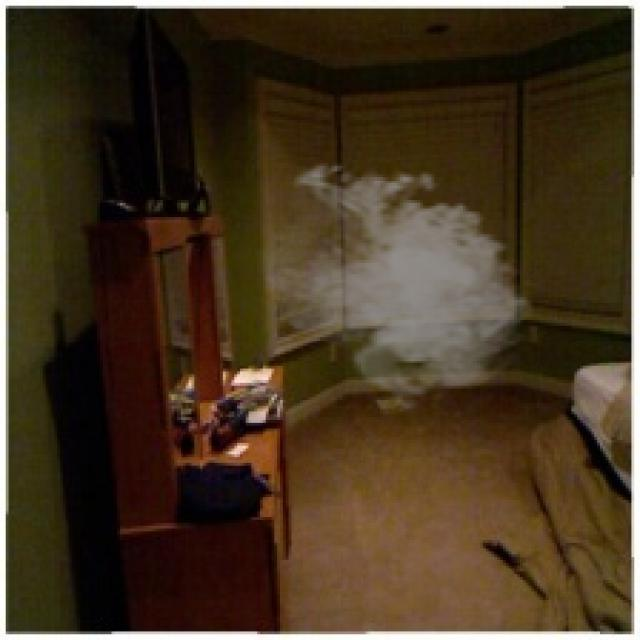smoke: (254, 157, 537, 414)
